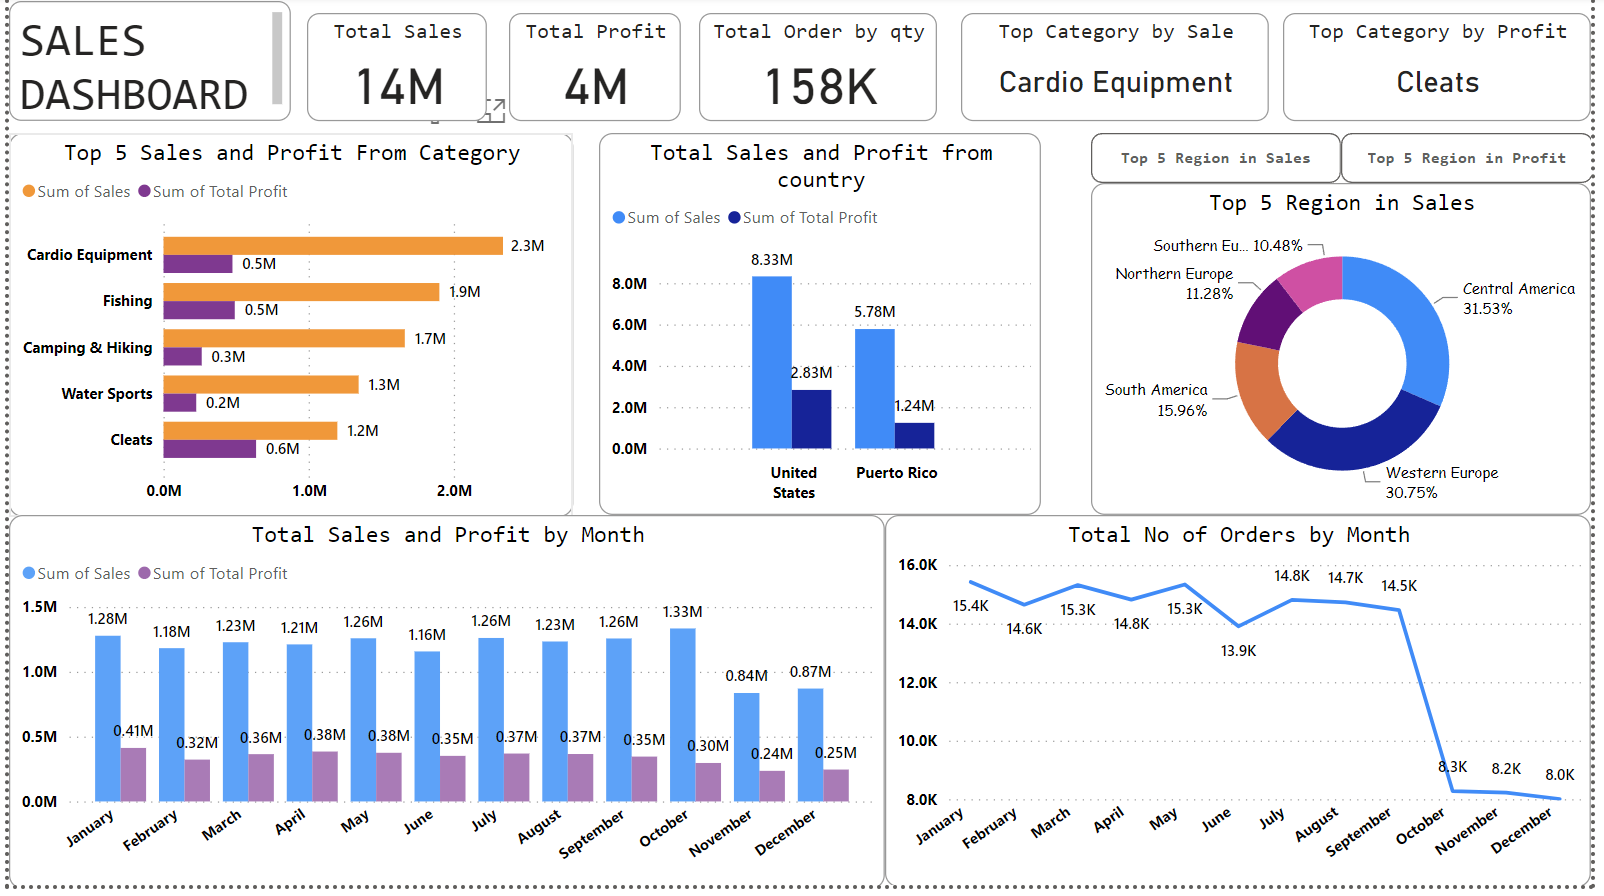

Layout of this report page (visuals, bound fields, positions):
{"tool":"powerbi","page":{"name":"Page 1","canvas":[1280,720],"ordinal":0},"visuals":[{"type":"clusteredBarChart","title":"Top 5 Sales and Profit From Category","fields":{"Category":["Sales Data.Category Name"],"Y":["Sum(Sales Data.Sales)","Sum(Sales Data.Total Profit)"]},"box":[0,111.6,456.3,310.7],"z":0},{"type":"donutChart","title":"Top 5 Region in Sales","fields":{"Category":["Sales Data.Order Region"],"Y":["Sum(Sales Data.Sales)"]},"box":[875.3,152.1,404.5,268.6],"z":1000},{"type":"lineChart","title":"Total No of Orders by Month","fields":{"Y":["Sum(Sales Data.Order Quantity)"],"Category":["Sales Data.Order Date.Variation.Date Hierarchy.Month"]},"box":[708.7,420.7,571.1,300.9],"z":2000},{"type":"clusteredColumnChart","title":"Total Sales and Profit by Month","fields":{"Category":["Sales Data.Order Date.Variation.Date Hierarchy.Month"],"Y":["Sum(Sales Data.Sales)","Sum(Sales Data.Total Profit)"]},"box":[0,420.7,708.7,302.6],"z":3000},{"type":"actionButton","title":"Top 5 Region in Sales","box":[875.3,111.6,202.2,40.4],"z":5000},{"type":"actionButton","title":"Top 5 Region in Sales","box":[1077.6,111.6,203.9,40.4],"z":6000},{"type":"clusteredColumnChart","title":"Total Sales and Profit from country","fields":{"Category":["Sales Data.Customer Country"],"Y":["Sum(Sales Data.Sales)","Sum(Sales Data.Total Profit)"]},"box":[477.3,111.6,357.6,309],"z":7000},{"type":"card","title":"Total Sales","fields":{"Values":["Sum(Sales Data.Sales)"]},"box":[241.1,14.6,145.6,87.4],"z":8000},{"type":"card","title":"Total Profit","fields":{"Values":["Sum(Sales Data.Total Profit)"]},"box":[404.5,14.6,139.1,87.4],"z":9000},{"type":"card","title":"Total Order by qty","fields":{"Values":["Sum(Sales Data.Order Quantity)"]},"box":[558.2,14.6,192.5,87.4],"z":10000},{"type":"card","title":"Top Category by Sale","fields":{"Values":["Min(Sales Data.Category Name)"]},"box":[770.2,14.6,249.2,87.4],"z":11000},{"type":"card","title":"Top Category by Profit","fields":{"Values":["Min(Sales Data.Category Name)"]},"box":[1030.7,14.6,249.2,87.4],"z":12000},{"type":"textbox","box":[0,4.9,228.1,97.1],"z":13000}]}

Visuals, with their boxes in screenshot pixels (x1, y1, x2, y2), scaled from the page's 1280x720 canvas onto the 1604x896 screenshot:
"Top 5 Sales and Profit From Category" clusteredBarChart: detection(0, 139, 572, 526)
"Top 5 Region in Sales" donutChart: detection(1097, 189, 1603, 524)
"Total No of Orders by Month" lineChart: detection(888, 524, 1603, 895)
"Total Sales and Profit by Month" clusteredColumnChart: detection(0, 524, 888, 895)
"Top 5 Region in Sales" actionButton: detection(1097, 139, 1350, 189)
"Top 5 Region in Sales" actionButton: detection(1350, 139, 1603, 189)
"Total Sales and Profit from country" clusteredColumnChart: detection(598, 139, 1046, 523)
"Total Sales" card: detection(302, 18, 485, 127)
"Total Profit" card: detection(507, 18, 681, 127)
"Total Order by qty" card: detection(699, 18, 941, 127)
"Top Category by Sale" card: detection(965, 18, 1277, 127)
"Top Category by Profit" card: detection(1292, 18, 1603, 127)
textbox: detection(0, 6, 286, 127)
